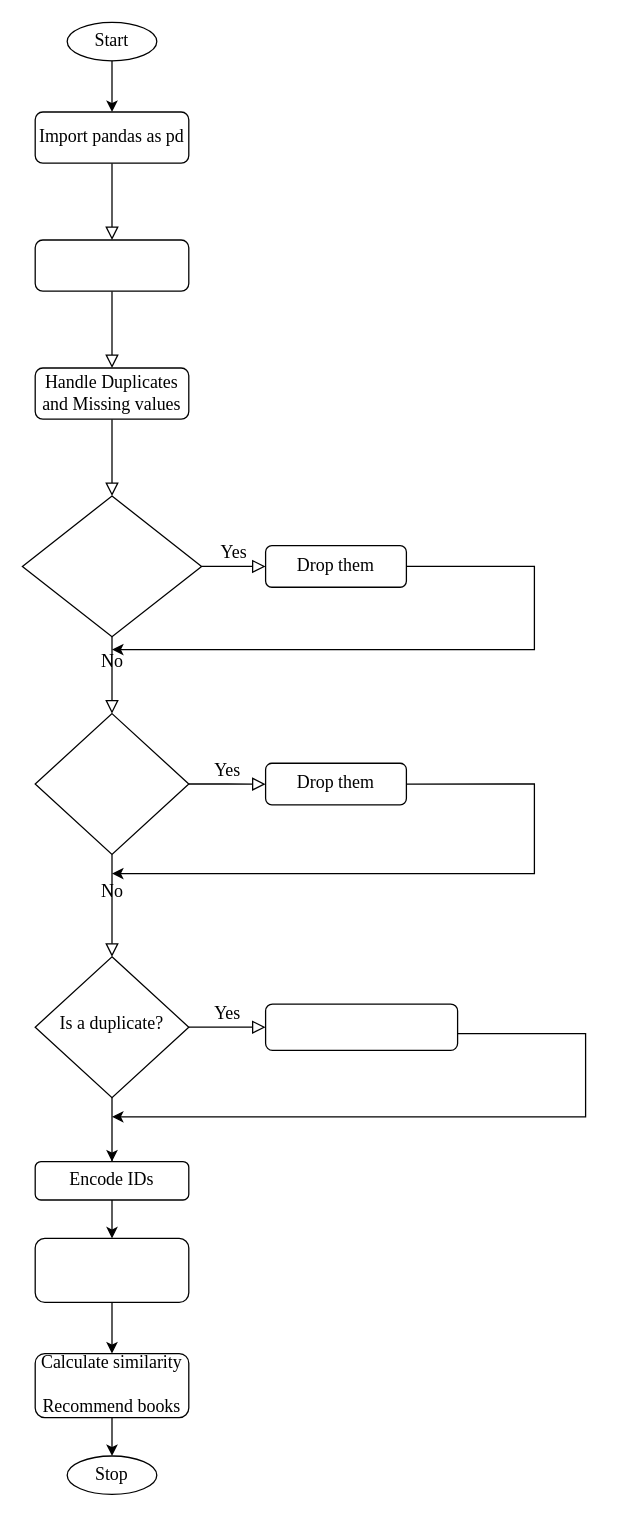
The diagram is 618 pixels wide and 1517 high, and some of its shapes have lost their labels. The shapes that lost their labels are listed below. From the top down, each one's centre as x and y in pixels, then its label:
At point 111,265: "Data Inspection:".
At point 111,566: "Does the book have less than 100 reviews".
At point 111,783: "Does the user have less than 200 reviews".
At point 361,1026: "Keep the first and drop others.".
At point 111,1269: "Split the model into training and testing data".
